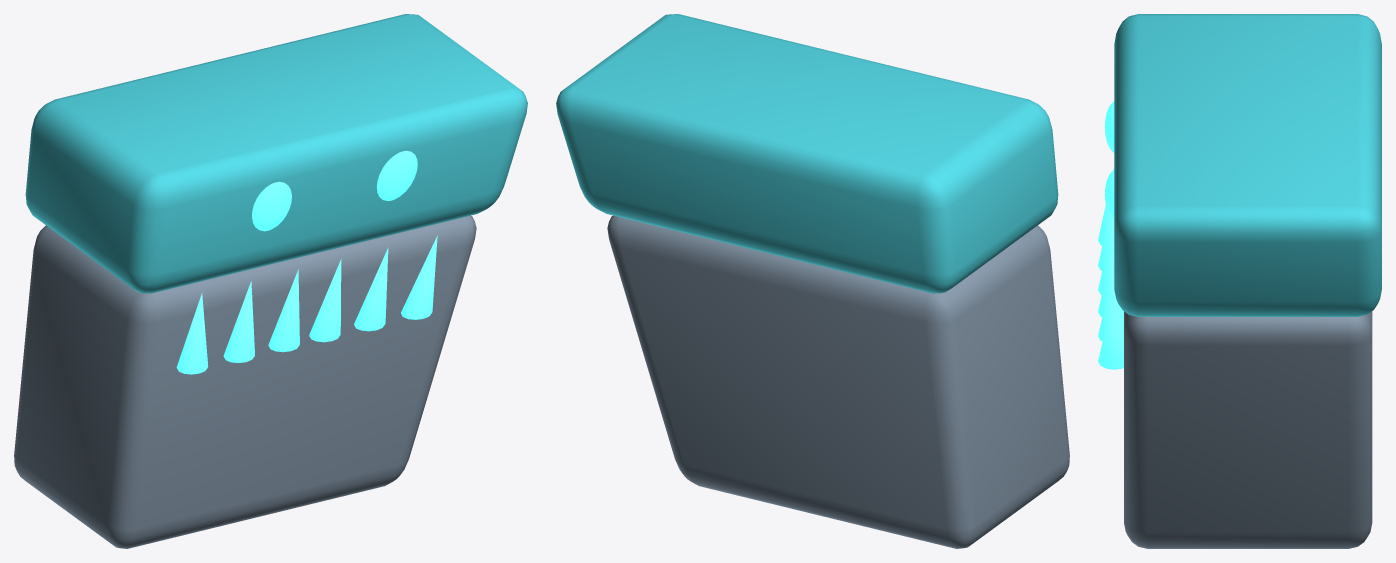
The model's file is mimic_v4.glb.
3 renders of one model, left to right at view 1: azimuth 30°, elevation 25°; view 2: azimuth 150°, elevation 25°; view 3: azimuth 270°, elevation 25°, orthographic. The views are drawn at different scales.
Visible parts, largest first — view 1: CHEST_PRIMARY, LID_ACCENT, EYE_EMISSIVE.001, TOOTH_EMISSIVE.005, EYE_EMISSIVE, TOOTH_EMISSIVE.004, TOOTH_EMISSIVE.003, TOOTH_EMISSIVE.002, TOOTH_EMISSIVE.001, TOOTH_EMISSIVE; view 2: CHEST_PRIMARY, LID_ACCENT; view 3: LID_ACCENT, CHEST_PRIMARY, TOOTH_EMISSIVE.005, TOOTH_EMISSIVE.004, TOOTH_EMISSIVE.003, EYE_EMISSIVE, EYE_EMISSIVE.001, TOOTH_EMISSIVE.002.
Part boxes in pixels (box(x1,y1,x2,y2)): CHEST_PRIMARY: box(14, 215, 476, 548); LID_ACCENT: box(25, 14, 527, 293); EYE_EMISSIVE.001: box(376, 150, 417, 200); TOOTH_EMISSIVE.005: box(401, 235, 437, 319); EYE_EMISSIVE: box(252, 181, 291, 231); TOOTH_EMISSIVE.004: box(354, 247, 388, 331); TOOTH_EMISSIVE.003: box(309, 259, 341, 342); TOOTH_EMISSIVE.002: box(268, 269, 299, 352); TOOTH_EMISSIVE.001: box(223, 281, 254, 362); TOOTH_EMISSIVE: box(176, 292, 208, 374); CHEST_PRIMARY: box(607, 215, 1069, 548); LID_ACCENT: box(556, 14, 1058, 293); LID_ACCENT: box(1114, 14, 1381, 316); CHEST_PRIMARY: box(1124, 311, 1372, 548); TOOTH_EMISSIVE.005: box(1098, 293, 1123, 369); TOOTH_EMISSIVE.004: box(1098, 267, 1123, 341); TOOTH_EMISSIVE.003: box(1098, 241, 1114, 316); EYE_EMISSIVE: box(1104, 101, 1114, 152); EYE_EMISSIVE.001: box(1104, 170, 1114, 219); TOOTH_EMISSIVE.002: box(1098, 220, 1114, 294).
Size of the model in its own units: 1.9 by 1.63 by 1.02.
